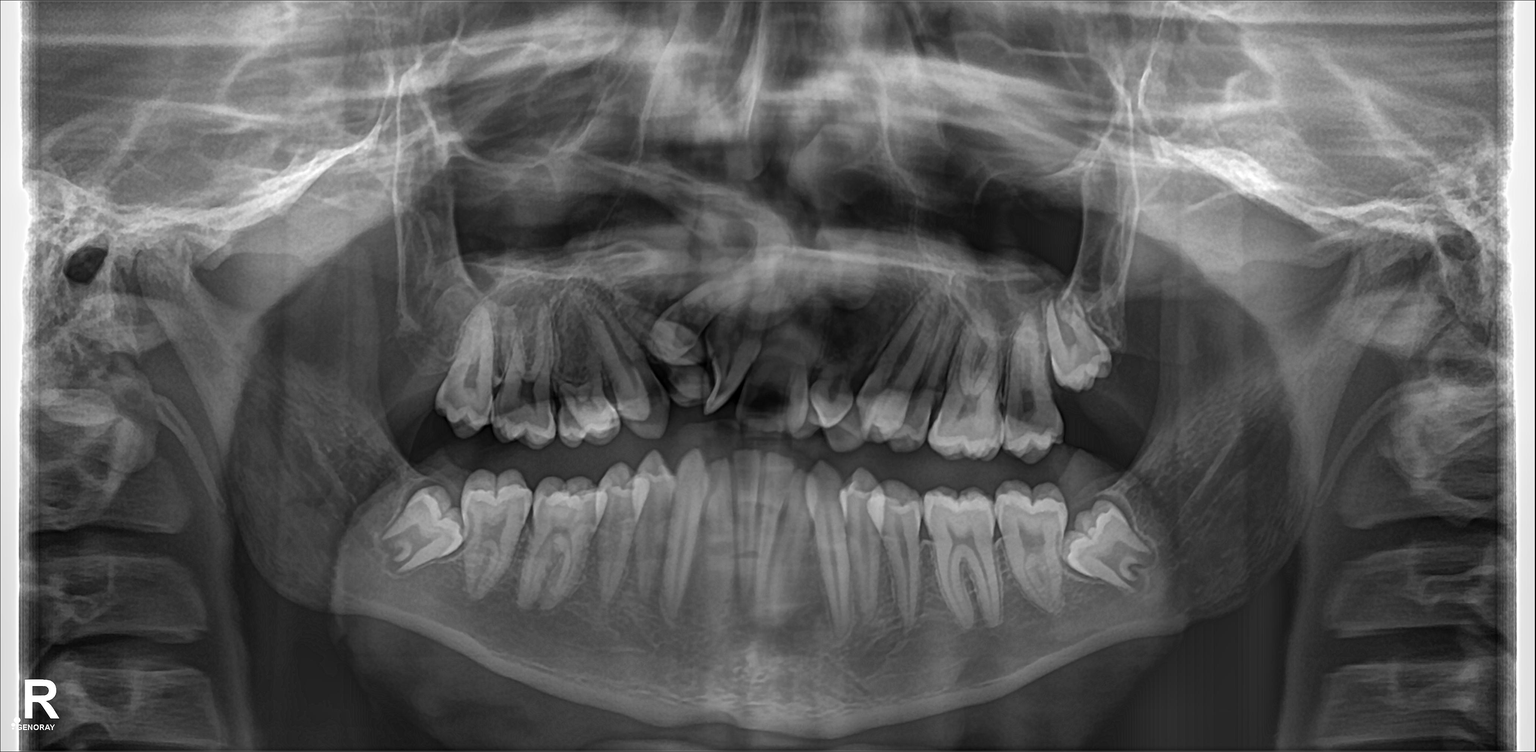Dental Caries: (741, 385, 799, 420)
Impacted Third Molar: (1035, 292, 1117, 381), (384, 497, 462, 579), (1076, 514, 1159, 587)
Missing Tooth: (397, 259, 460, 416), (1125, 277, 1172, 380)
